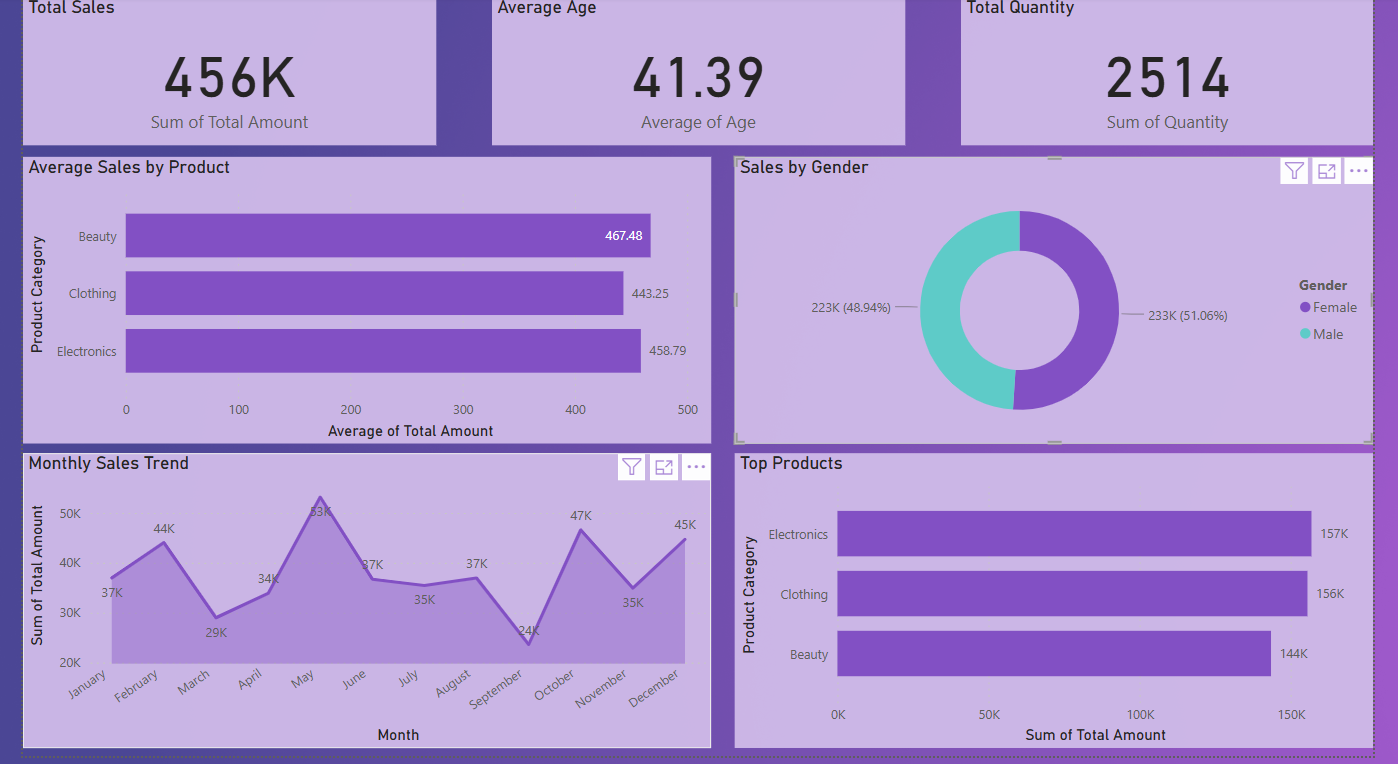

The dashboard page shown, as its layout file describes it:
{"tool":"powerbi","page":{"name":"Page 1","canvas":[1280,720],"ordinal":0},"visuals":[{"type":"card","title":"Total Sales","fields":{"Values":["Sum(retail_sales_dataset.Total Amount)"]},"box":[0,0,391.4,140.4],"z":0},{"type":"card","title":"Total Quantity","fields":{"Values":["Sum(retail_sales_dataset.Quantity)"]},"box":[889,0,391.4,140.4],"z":1000},{"type":"card","title":"Average Age","fields":{"Values":["Avg(retail_sales_dataset.Age)"]},"box":[444.5,0,391.4,140.4],"z":2000},{"type":"clusteredBarChart","title":"Average Sales by Product","fields":{"Category":["retail_sales_dataset.Product Category"],"Y":["Avg(retail_sales_dataset.Total Amount)"]},"box":[0,151.5,652.4,272],"z":3000},{"type":"lineChart","title":"Monthly Sales Trend","fields":{"Category":["retail_sales_dataset.Date.Variation.Date Hierarchy.Month"],"Y":["Sum(retail_sales_dataset.Total Amount)"]},"box":[0,432.3,652.4,279.7],"z":4000},{"type":"donutChart","title":"Sales by Gender","fields":{"Category":["retail_sales_dataset.Gender"],"Y":["Sum(retail_sales_dataset.Total Amount)"]},"box":[674.5,151.5,605.9,272],"z":5000},{"type":"clusteredBarChart","title":"Top Products","fields":{"Category":["retail_sales_dataset.Product Category"],"Y":["Sum(retail_sales_dataset.Total Amount)"]},"box":[674.5,432.3,605.9,279.7],"z":6000}]}

Visuals, with their boxes in screenshot pixels (x1, y1, x2, y2), scaled from the page's 1280x720 canvas onto the 1398x764 screenshot:
"Total Sales" card: [x1=0, y1=0, x2=427, y2=149]
"Total Quantity" card: [x1=971, y1=0, x2=1397, y2=149]
"Average Age" card: [x1=485, y1=0, x2=913, y2=149]
"Average Sales by Product" clusteredBarChart: [x1=0, y1=161, x2=713, y2=449]
"Monthly Sales Trend" lineChart: [x1=0, y1=459, x2=713, y2=756]
"Sales by Gender" donutChart: [x1=737, y1=161, x2=1397, y2=449]
"Top Products" clusteredBarChart: [x1=737, y1=459, x2=1397, y2=756]
